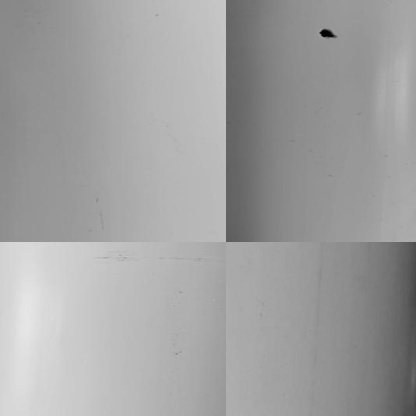kongdong: (315, 28, 335, 38)
